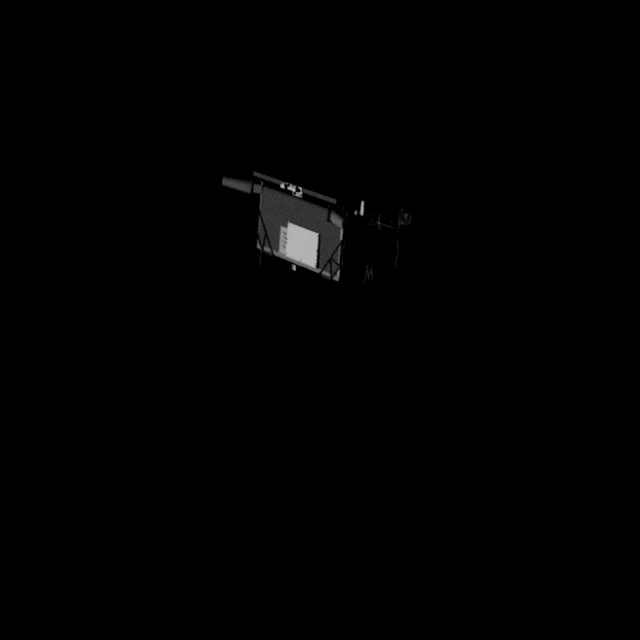medium_debris: (205, 163, 412, 287)
